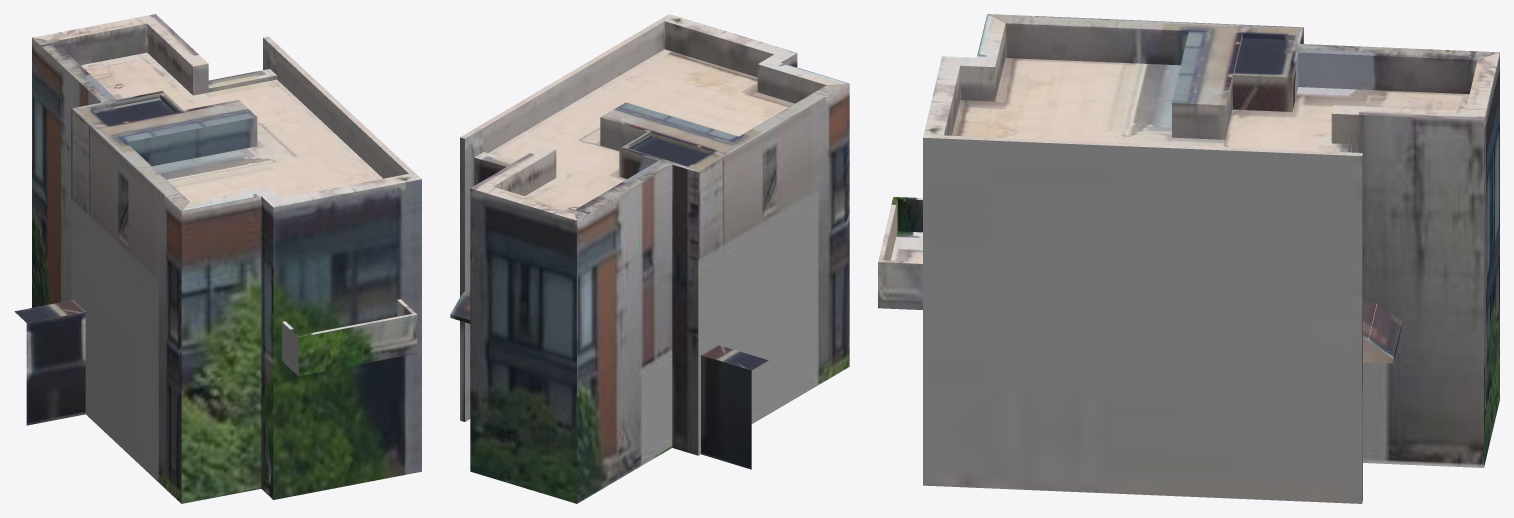
The picture shows the model from 3 angles, left to right: view 1: azimuth 30°, elevation 25°; view 2: azimuth 150°, elevation 25°; view 3: azimuth 270°, elevation 25°; orthographic projection. The views are drawn at different scales.
Visible parts, largest first — view 1: B286664035301062A0; view 2: B286664035301062A0; view 3: B286664035301062A0.
Part boxes in pixels (x1,y1,x2,y2): B286664035301062A0: [14, 14, 421, 503]; B286664035301062A0: [450, 14, 849, 503]; B286664035301062A0: [878, 14, 1499, 503].
Bounding box in the file's own units: 9.72 × 9.68 × 15.68.
Materials: 1 (1 with a texture image).
